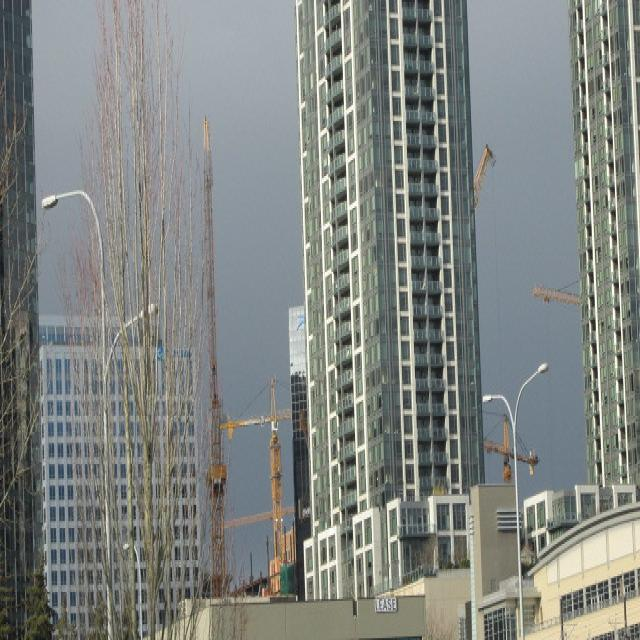building: (290, 5, 490, 617)
